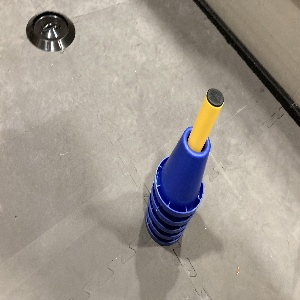Blue_5: (144, 127, 211, 246)
